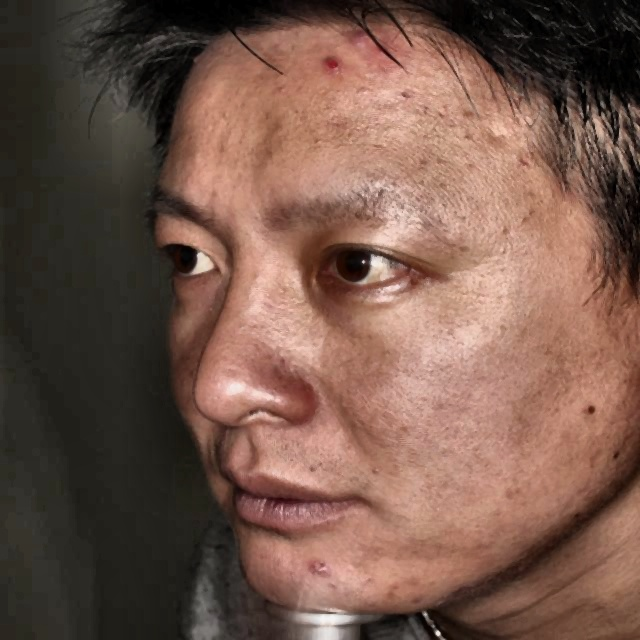comedone: (344, 25, 407, 71), (314, 48, 341, 84), (310, 553, 334, 583)
